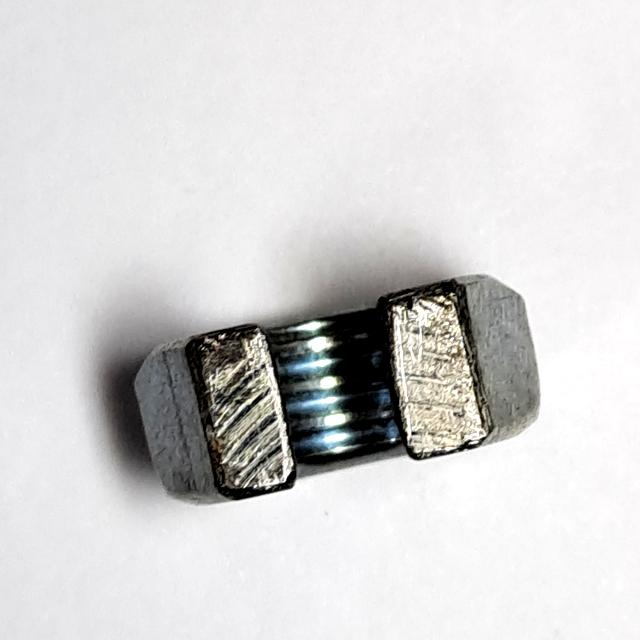Side-Fracture: (123, 261, 558, 521)
